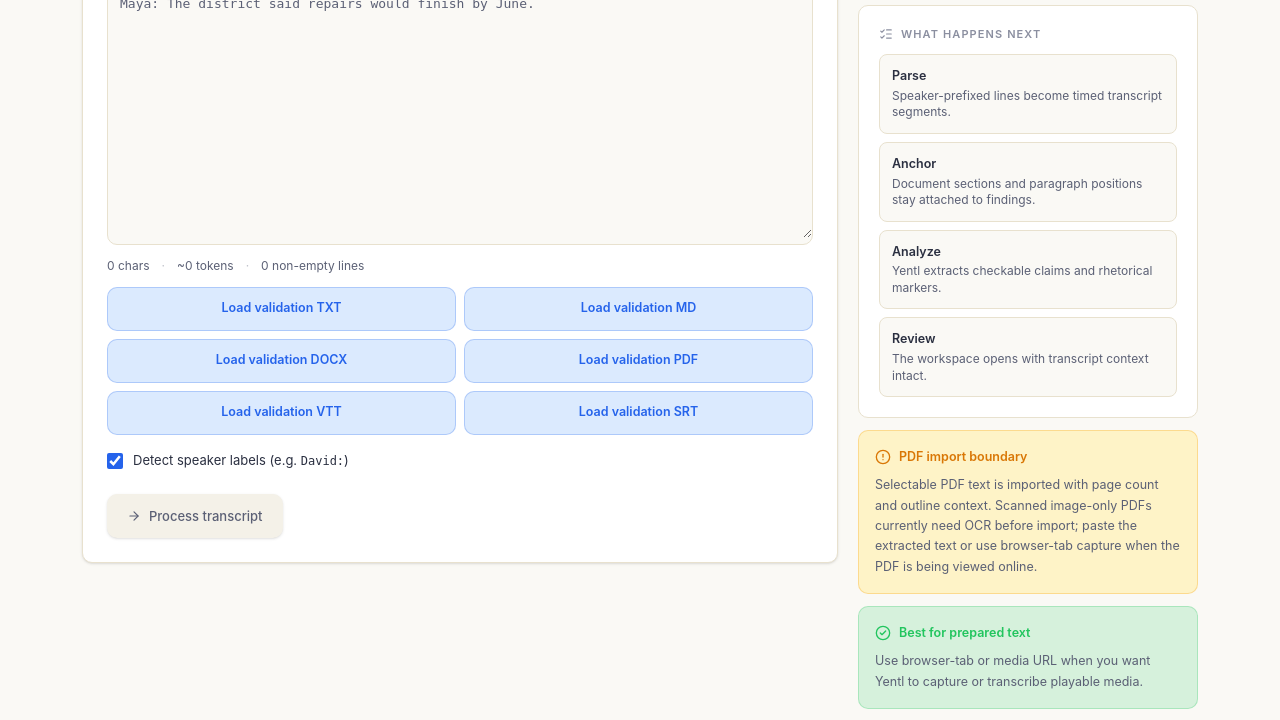
TextIngestPane — file drop › loads the validation PDF fixture through the binary document-ingest path
(page scrolled)
Click the button "Load validation PDF" at (638, 361), box [464,339,813,383]
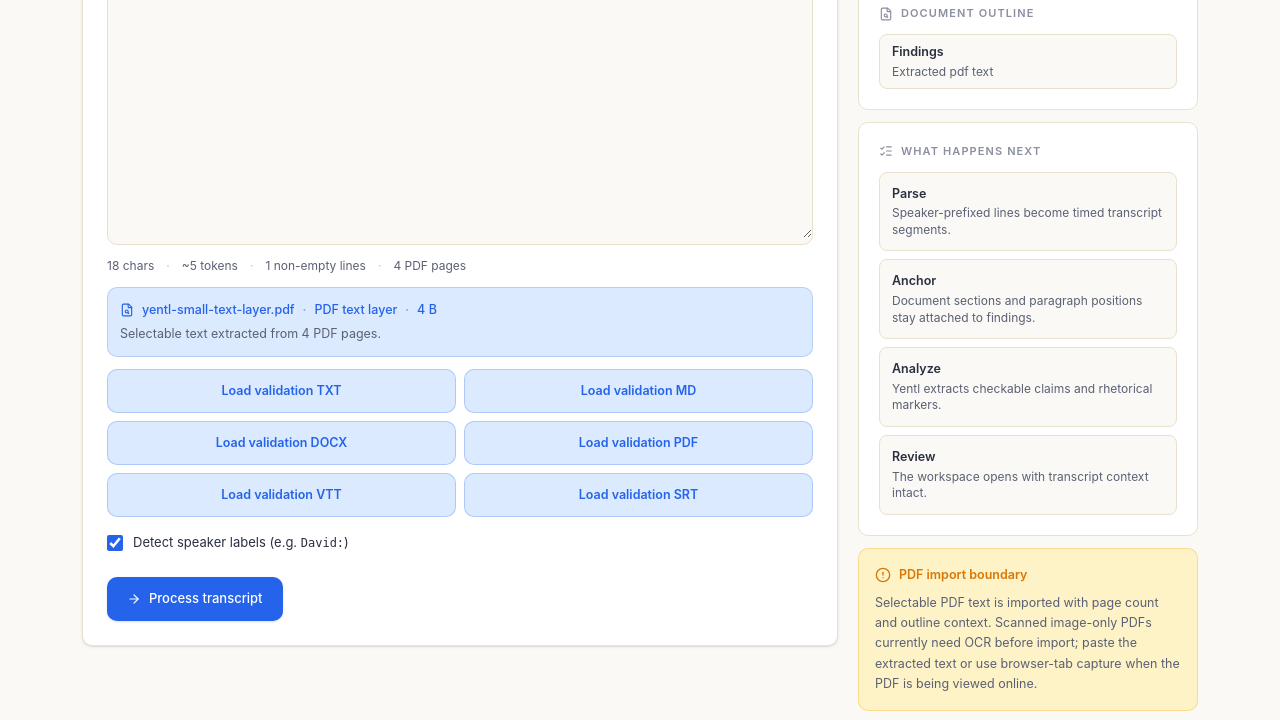
Result: the text "yentl-small-text-layer.pdf" is shown at [142,300,295,320]
Result: the text "4 PDF pages" is shown at [393,257,466,275]
